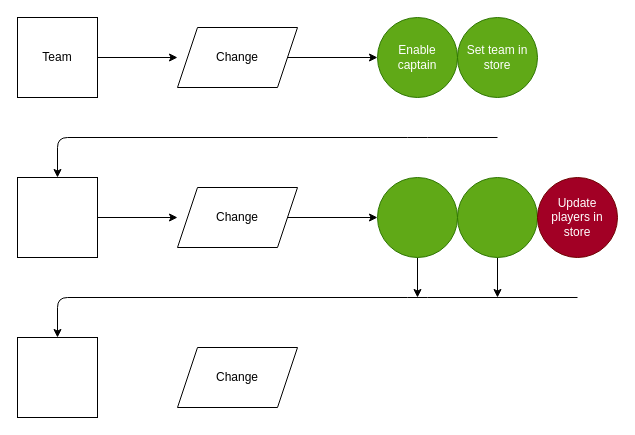
Image size: 635x435. Some labels were removed from this diagram. Here are the shapes that lost their labels. From the top down, the centre of each, then its label:
point 57,217: Captain
point 417,217: Enable Players
point 497,217: Set captain as players
point 57,377: Players
